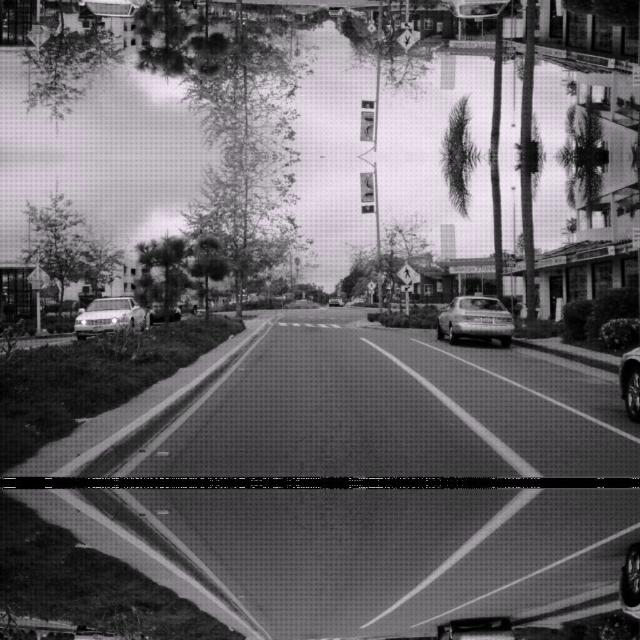pedestrianCrossing: (396, 260, 416, 284), (396, 28, 416, 52)
